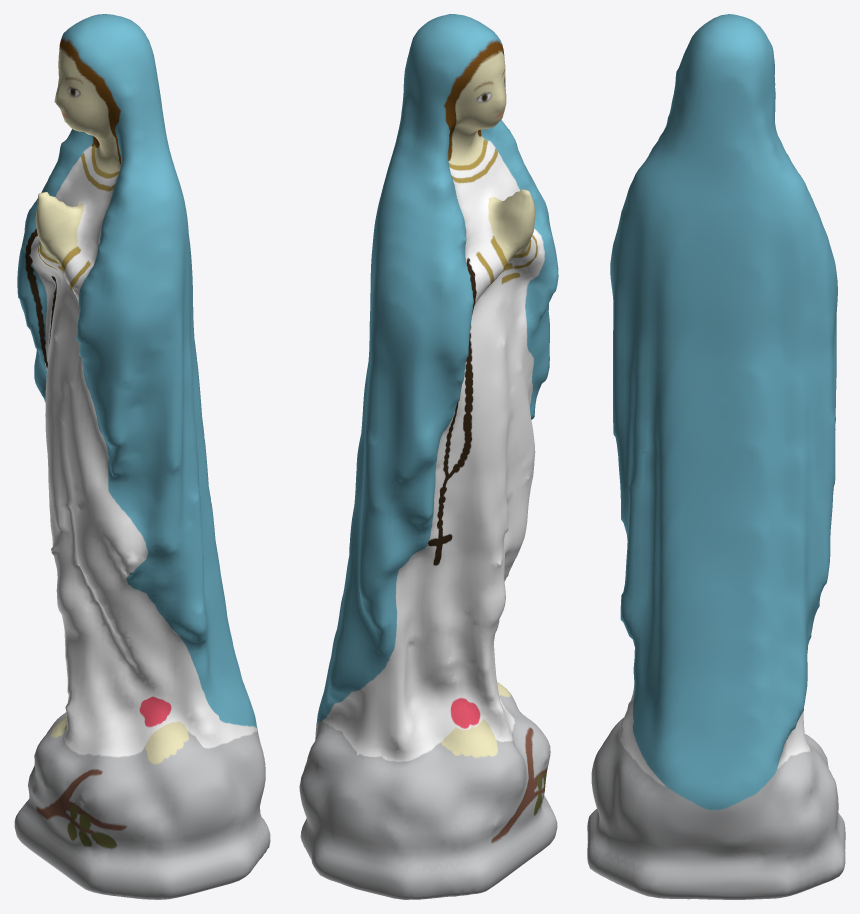
Rendered from VirginMary.fbx.
3 views of the same model, side by side, from view 1: azimuth 30°, elevation 25°; view 2: azimuth 150°, elevation 25°; view 3: azimuth 270°, elevation 25° (orthographic). The views are drawn at different scales.
Parts seen in each view (by area): view 1: VirginMary(low); view 2: VirginMary(low); view 3: VirginMary(low).
Part boxes in pixels (x1,y1,x2,y2): VirginMary(low): (14, 14, 270, 899); VirginMary(low): (299, 14, 558, 899); VirginMary(low): (587, 14, 845, 899).
Bounding box in the file's own units: 124 × 487 × 138.
1 material, 1 textured.
